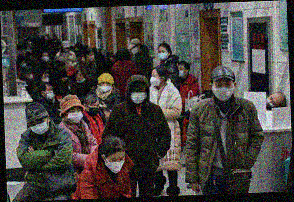mask_weared_incorrect: (75, 74, 86, 84)
with_mask: (212, 81, 236, 102), (104, 154, 127, 175), (28, 119, 50, 135), (130, 88, 149, 105), (66, 108, 84, 124), (86, 102, 101, 117), (265, 95, 278, 111), (149, 73, 161, 88), (44, 87, 55, 101), (98, 82, 112, 93), (158, 49, 169, 61), (178, 66, 186, 79), (130, 45, 139, 55), (41, 53, 50, 63), (58, 66, 67, 74), (42, 75, 50, 83), (26, 72, 34, 80), (88, 53, 95, 62), (21, 61, 28, 68), (63, 47, 69, 53)
